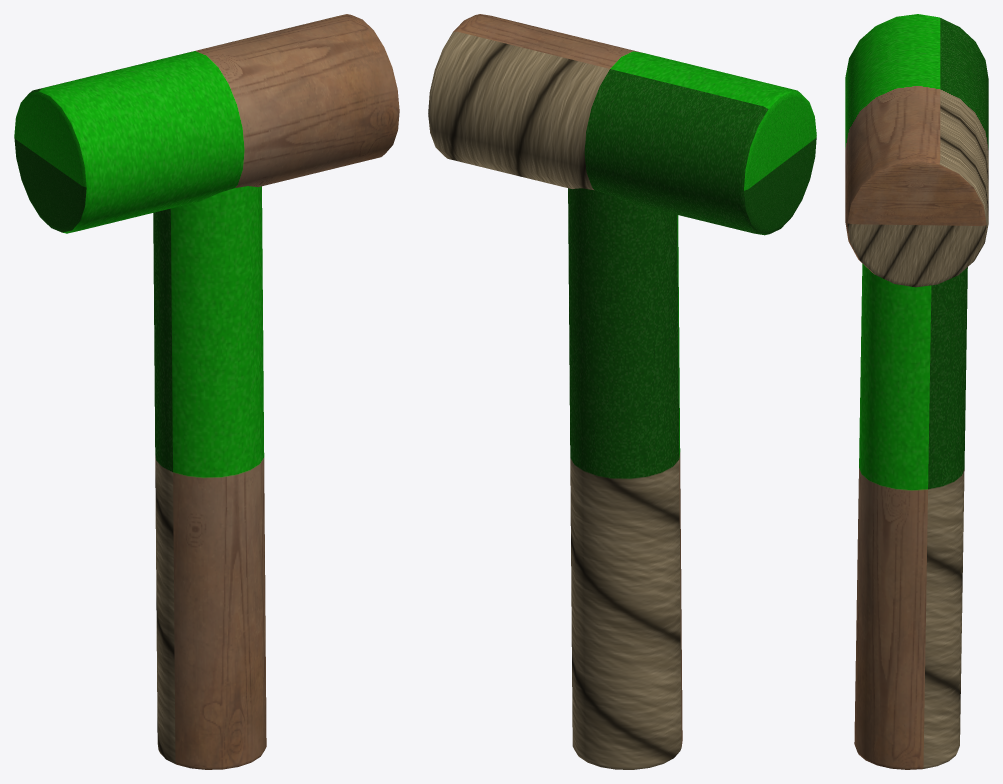
The model's file is mallet export to unity.fbx.
The picture shows the model from 3 angles, left to right: view 1: azimuth 30°, elevation 25°; view 2: azimuth 150°, elevation 25°; view 3: azimuth 270°, elevation 25°; orthographic projection. The views are drawn at different scales.
Visible parts, largest first — view 1: pCylinder3; view 2: pCylinder3; view 3: pCylinder3.
Part boxes in pixels (x1,y1,x2,y2): pCylinder3: (14,14,399,769); pCylinder3: (428,14,816,769); pCylinder3: (845,14,988,769).
Size of the model in its own units: 19.64 by 40.9 by 8.
